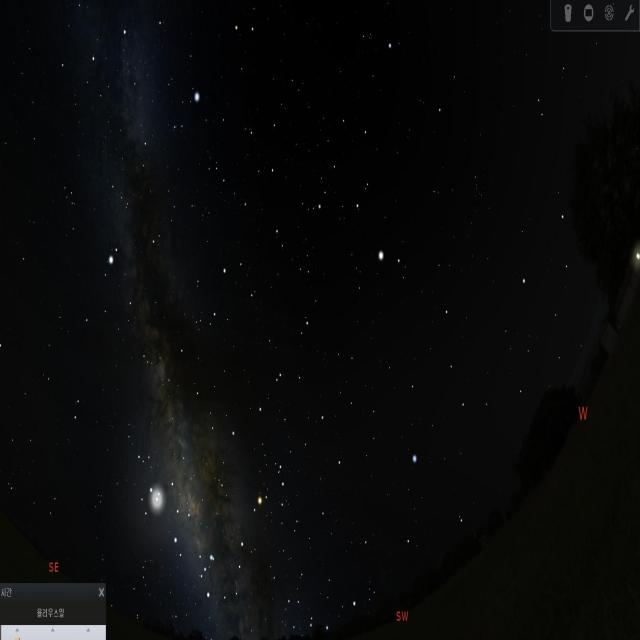aquila: (81, 166, 166, 375)
bootes: (320, 100, 410, 304)
lyra: (166, 80, 202, 140)
moon: (138, 467, 175, 519)
sagittarius: (132, 441, 197, 550)
scorpius: (197, 457, 294, 613)
